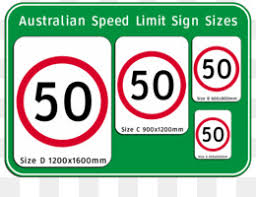sp50: (18, 51, 108, 146), (117, 47, 190, 127), (193, 40, 242, 95), (195, 115, 238, 156)
